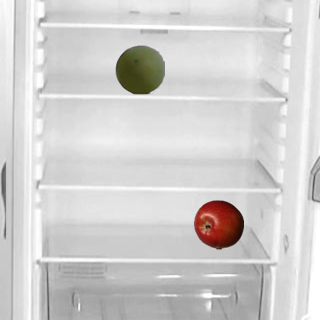Apple Braeburn: (193, 199, 243, 249)
Grape White 4: (114, 44, 164, 94)
